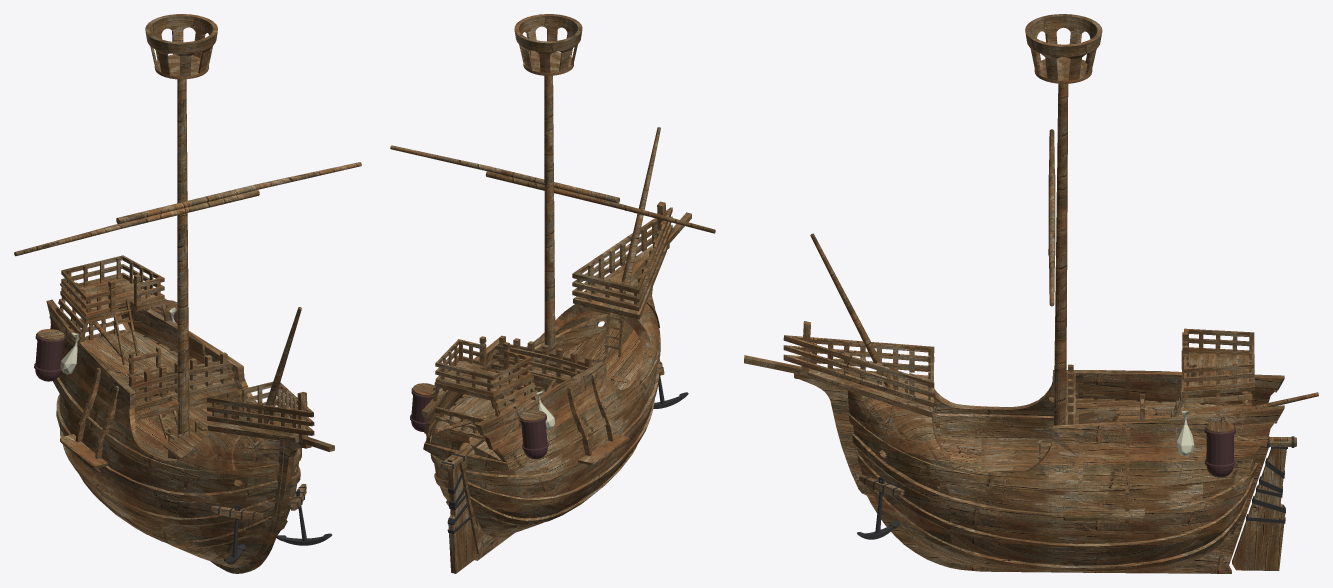
Rendered from sailingboat.obj.
The picture shows the model from 3 angles, left to right: view 1: azimuth 30°, elevation 25°; view 2: azimuth 150°, elevation 25°; view 3: azimuth 270°, elevation 25°; orthographic projection. The views are drawn at different scales.
Visible parts, largest first — view 1: CSCASCO, CSBARAN, CSCUBIER, CSMASTIL, CSCOFA, CSVERGA, CSCUBIE2, CSBAUPRE, CSCESTO, CSANCLA1, CSANCLA, CSPALOT (+5 smaller); view 2: CSCASCO, CSBARAN, CSCUBIER, CSCOFA, CSMASTIL, CSTIMON, CSVERGA, CSBAUPRE, CSCUBIE2, CSCESTO, CSPALOT, CSBARAN4 (+2 smaller); view 3: CSCASCO, CSBARAN, CSCUBIER, CSTIMON, CSMASTIL, CSCOFA, CSBAUPRE, CSCUBIE2, CSCESTO, CSVERGA, CSPALOT, CSANCLA (+1 smaller).
Part boxes in pixels (x1,y1,x2,y2): CSCASCO: (46,299,311,573); CSBARAN: (61,255,314,435); CSCUBIER: (85,328,242,484); CSMASTIL: (177,79,189,435); CSCOFA: (145,14,217,79); CSVERGA: (14,162,361,256); CSCUBIE2: (56,277,170,342); CSBAUPRE: (207,392,334,451); CSCESTO: (34,308,177,381); CSANCLA1: (211,504,263,564); CSANCLA: (276,484,332,545); CSPALOT: (264,307,301,423); CSCASCO: (421,244,669,560); CSBARAN: (435,207,672,396); CSCUBIER: (433,318,643,439); CSCOFA: (514,14,582,75); CSMASTIL: (544,75,555,391); CSTIMON: (441,438,484,573); CSVERGA: (390,145,715,233); CSBAUPRE: (573,201,691,319); CSCUBIE2: (430,360,537,416); CSCESTO: (410,388,548,459); CSPALOT: (621,127,660,285); CSBARAN4: (435,406,488,439); CSCASCO: (794,370,1284,573); CSBARAN: (783,328,1254,424); CSCUBIER: (882,397,1234,472); CSTIMON: (1232,436,1296,570); CSMASTIL: (1053,83,1068,425); CSCOFA: (1025,14,1102,83); CSBAUPRE: (744,321,932,417); CSCUBIE2: (1181,350,1254,418); CSCESTO: (1204,426,1236,477); CSVERGA: (1048,129,1055,306); CSPALOT: (810,233,892,387); CSANCLA: (857,475,904,539).
Size of the model in its own units: 150466 by 212334 by 204106.
8 materials, 4 textured.
